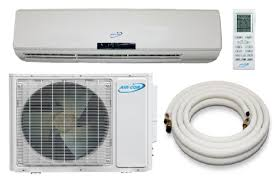ac: (14, 7, 227, 65)
